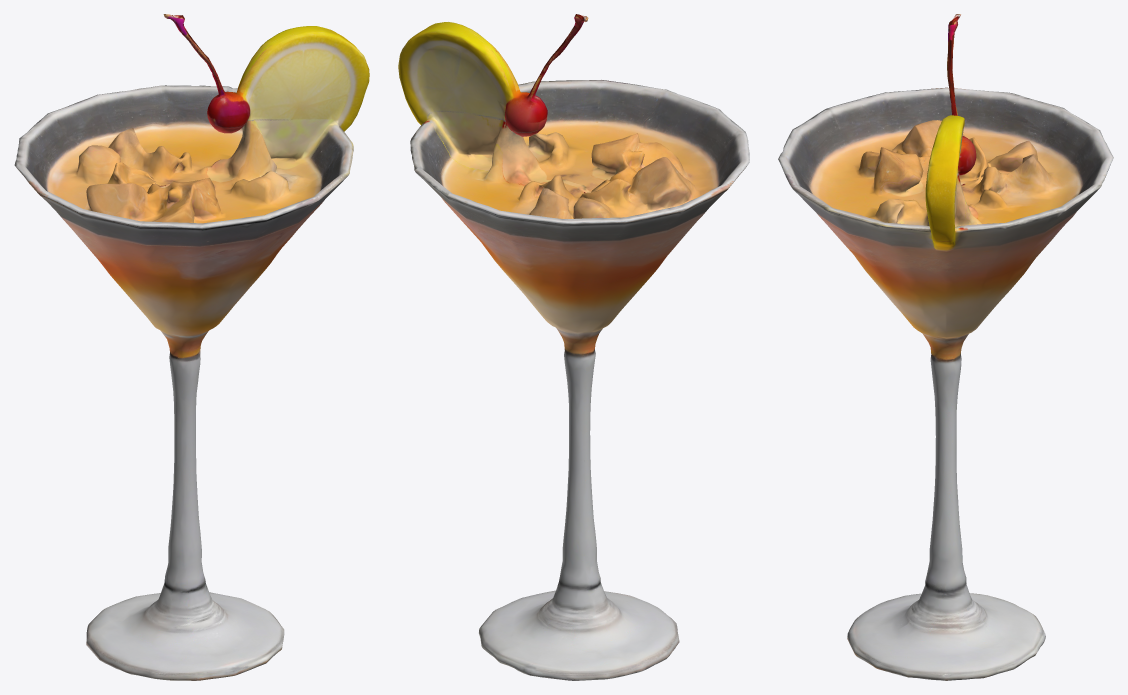
Rendered from cocktail.glb.
3 renders of one model, left to right at view 1: azimuth 30°, elevation 25°; view 2: azimuth 150°, elevation 25°; view 3: azimuth 270°, elevation 25°, orthographic.
Size of the model in its own units: 1.08 by 2 by 0.9813.
1 material, 1 textured.
